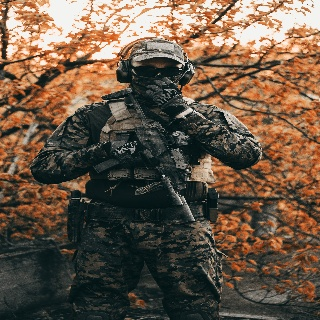rifle: (93, 87, 197, 226)
